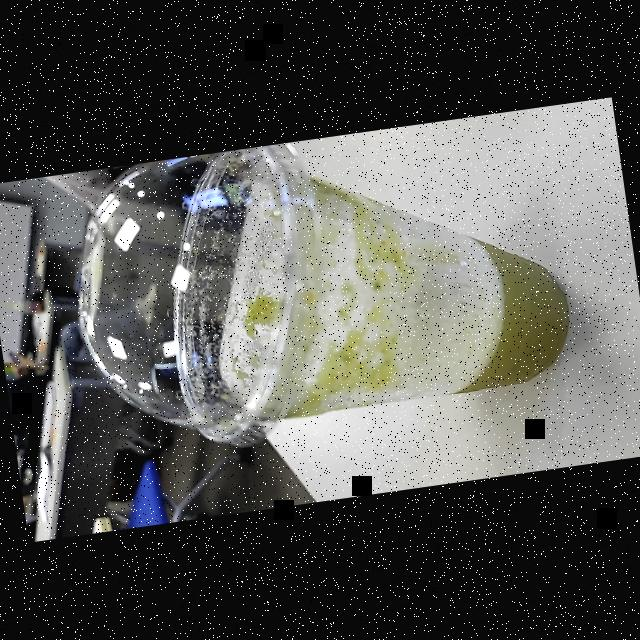plastic_cup: (52, 106, 588, 478)
plastic_cup_lid: (54, 140, 354, 480)
